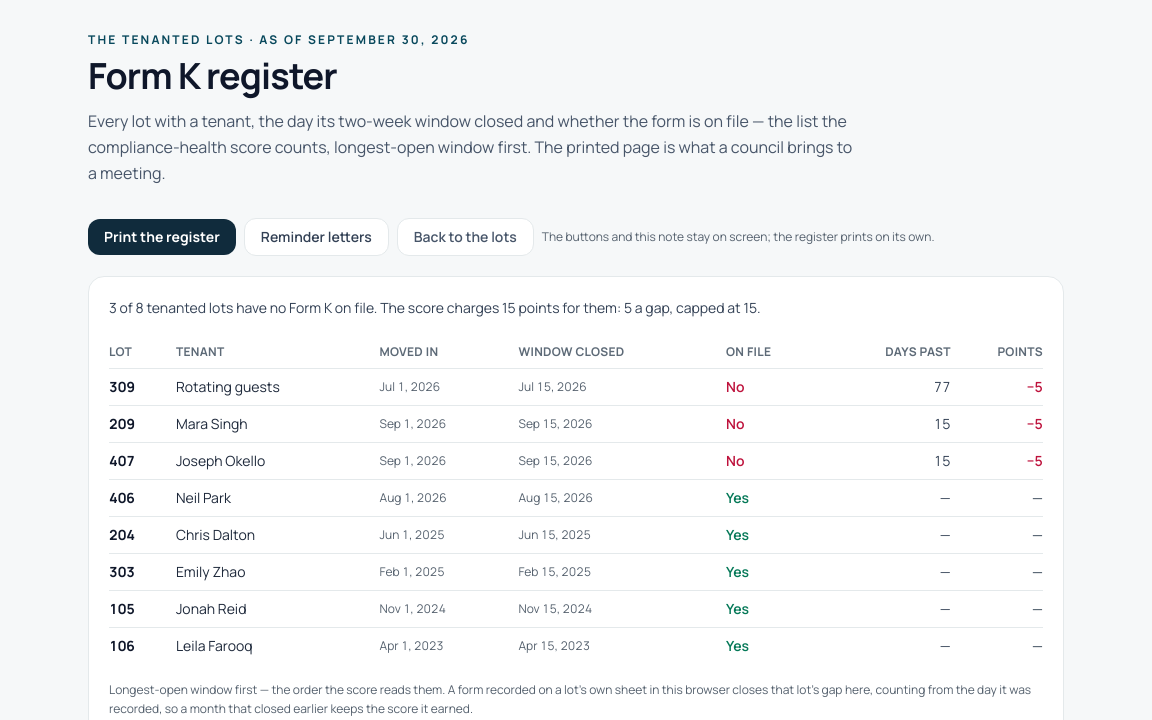
it: /units/register — the reminder letters › prints two letters for the three gaps and says which lot was held out
Step 1. Click the button "Reminder letters" → (316, 237), box [244,218,389,256]
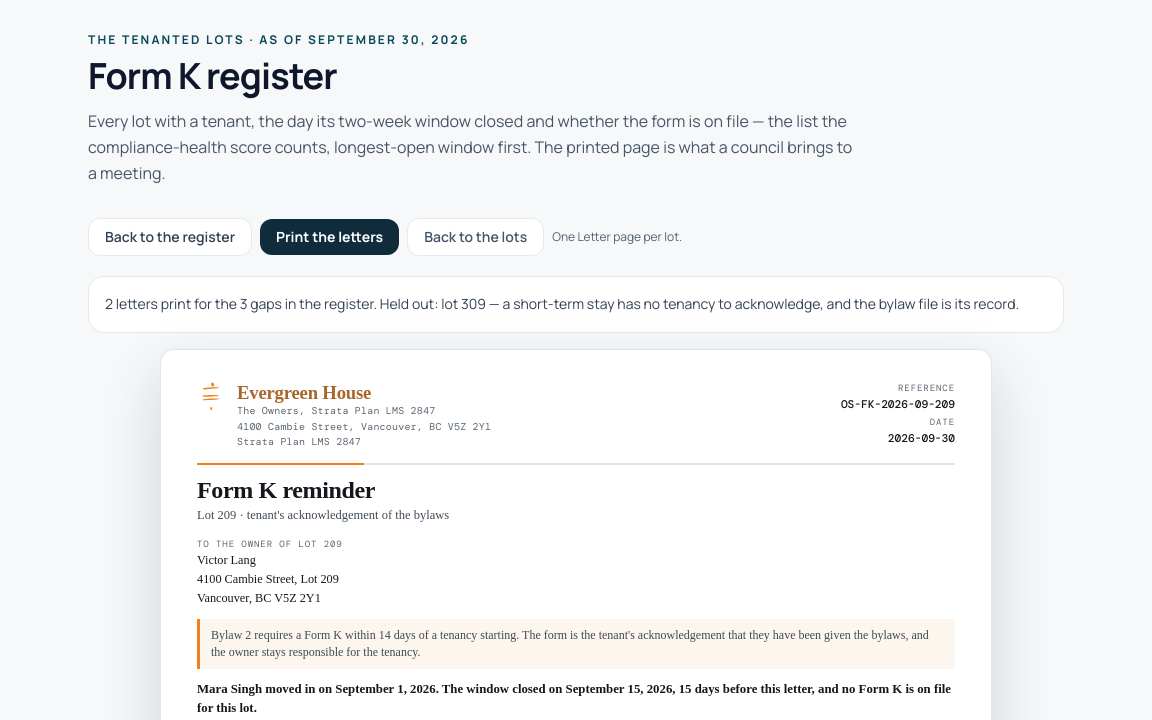
Now the text "2 letters print for the 3 gaps" is shown, box [105,294,380,313]
Now the text "Held out: lot 309" is shown, box [380,294,1019,313]
Now the text "OS-FK-2026-09-209" is shown, box [841,396,955,412]
